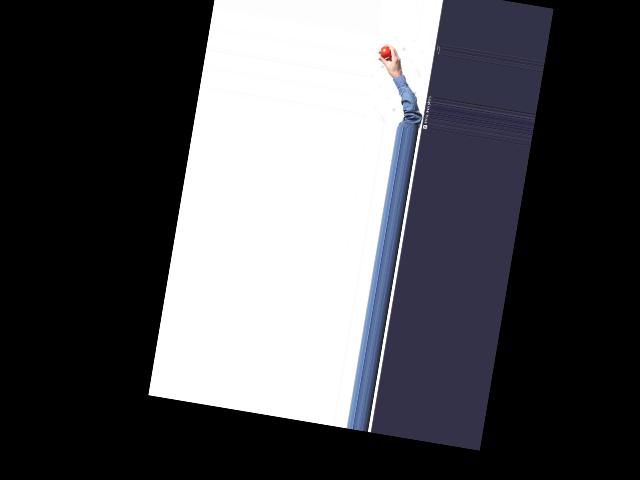tomato: (380, 45, 391, 58)
